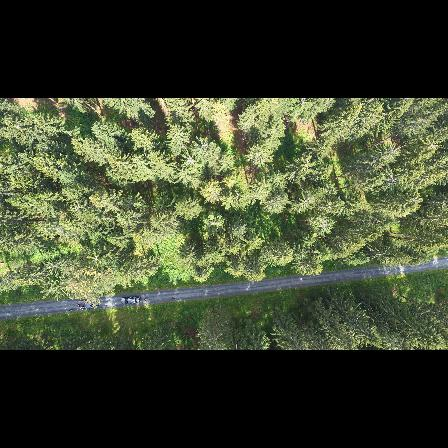Sick: (382, 170, 401, 191), (408, 189, 426, 208), (423, 135, 440, 154)
